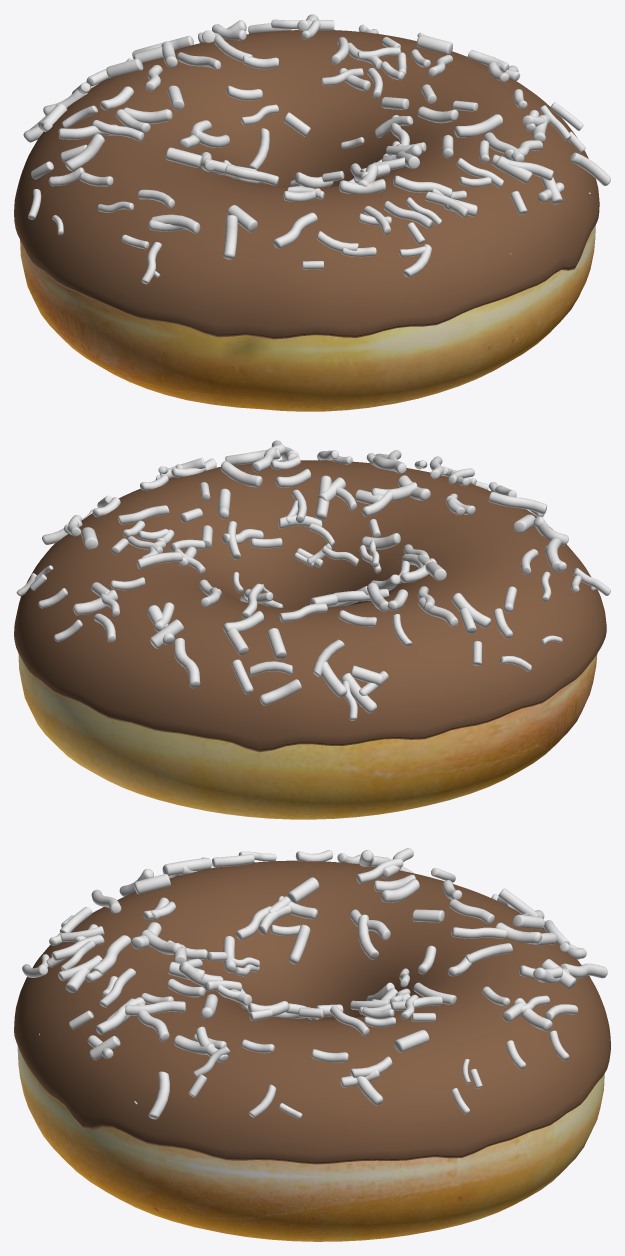
Rendered from coffee white vermicheli.glb.
3 renders of one model, top to bottom at view 1: azimuth 30°, elevation 25°; view 2: azimuth 150°, elevation 25°; view 3: azimuth 270°, elevation 25°, orthographic. The views are drawn at different scales.
Parts seen in each view (by area): view 1: chocolate.001, white Ver, Torus; view 2: chocolate.001, Torus, white Ver; view 3: chocolate.001, Torus, white Ver.
Boxes of the visible parts, box(x1,y1,x2,y2) form: chocolate.001: box(14, 30, 599, 339); white Ver: box(23, 14, 610, 284); Torus: box(20, 225, 595, 411); chocolate.001: box(14, 460, 606, 752); Torus: box(18, 653, 597, 819); white Ver: box(16, 440, 610, 720); chocolate.001: box(14, 860, 610, 1164); Torus: box(17, 1046, 604, 1241); white Ver: box(22, 848, 607, 1119).
Size of the model in its own units: 0.1995 by 0.0785 by 0.1978.
Materials: 3 (1 with a texture image).
